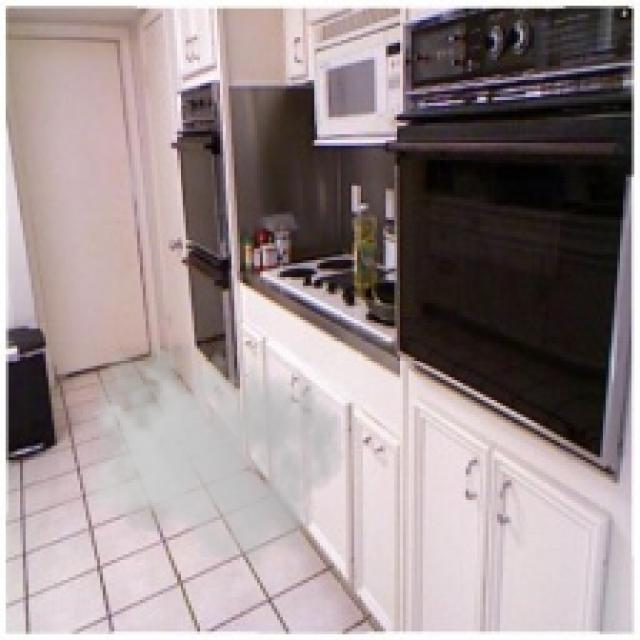smoke: (77, 334, 346, 569)
